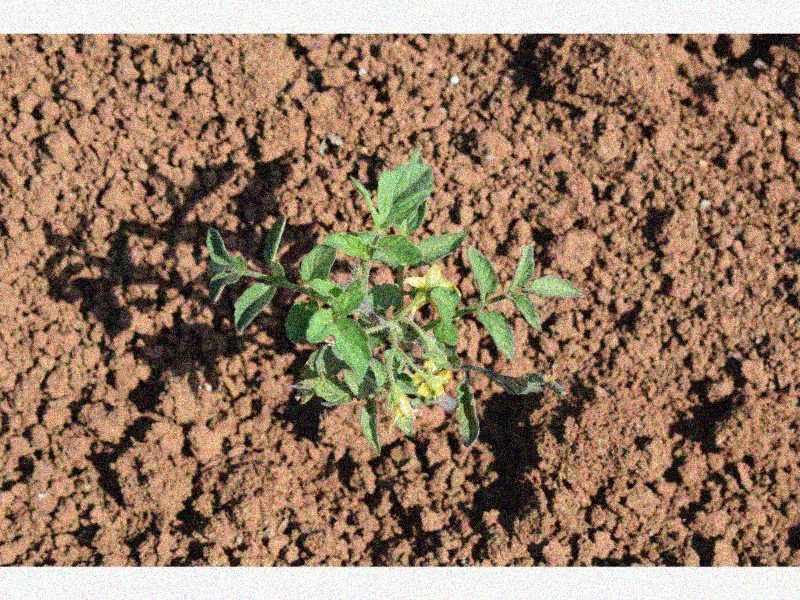tomato: (206, 147, 583, 452)
